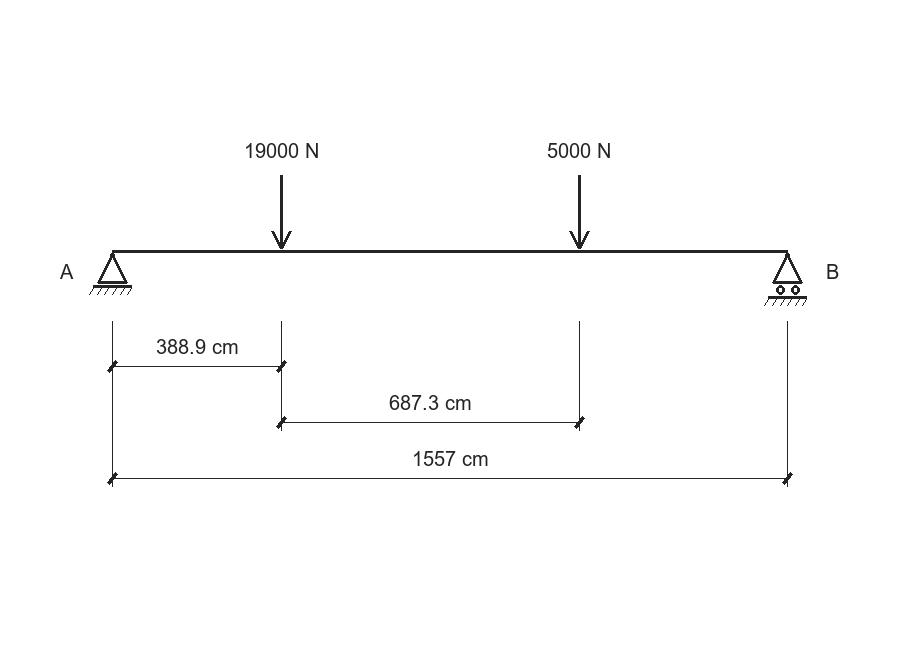pin_support: (89, 253, 132, 295)
point_load: (271, 175, 292, 249), (569, 175, 590, 249)
roller_support: (764, 253, 807, 306)
